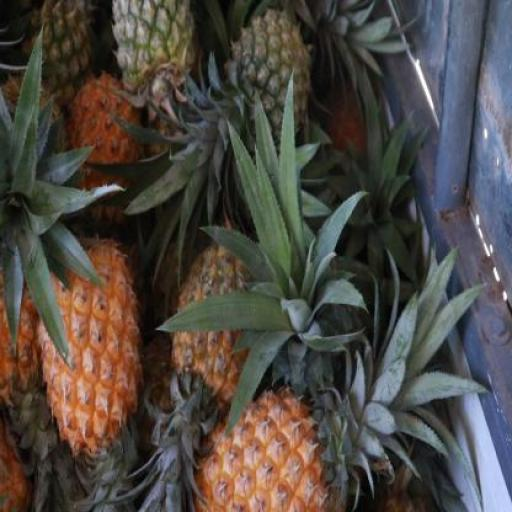Pineapple - v8 v1: (34, 231, 146, 457), (185, 383, 337, 512)
